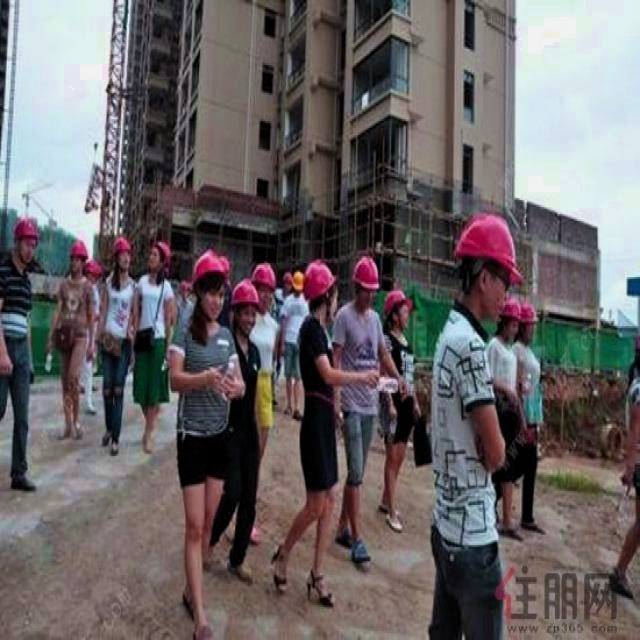Con_Casco: (459, 214, 519, 317), (194, 251, 226, 321), (353, 255, 380, 309)
